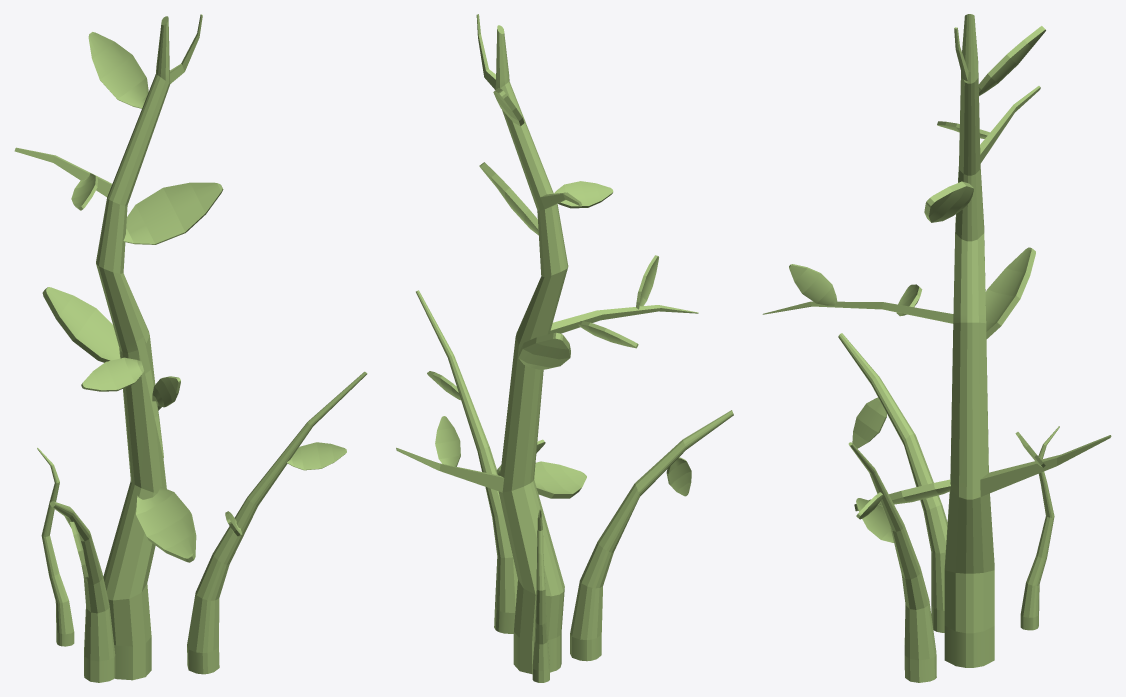
Rendered from moyen_tomate_la_vraie.fbx.
3 views of the same model, side by side, from view 1: azimuth 30°, elevation 25°; view 2: azimuth 150°, elevation 25°; view 3: azimuth 270°, elevation 25° (orthographic). The views are drawn at different scales.
Visible parts, largest first — view 1: pCube16; view 2: pCube16; view 3: pCube16.
Boxes of the visible parts, x1,y1,x2,y2 form: pCube16: [14, 14, 367, 682]; pCube16: [396, 14, 733, 682]; pCube16: [762, 14, 1111, 682].
Size of the model in its own units: 11.16 by 21.37 by 10.18.
